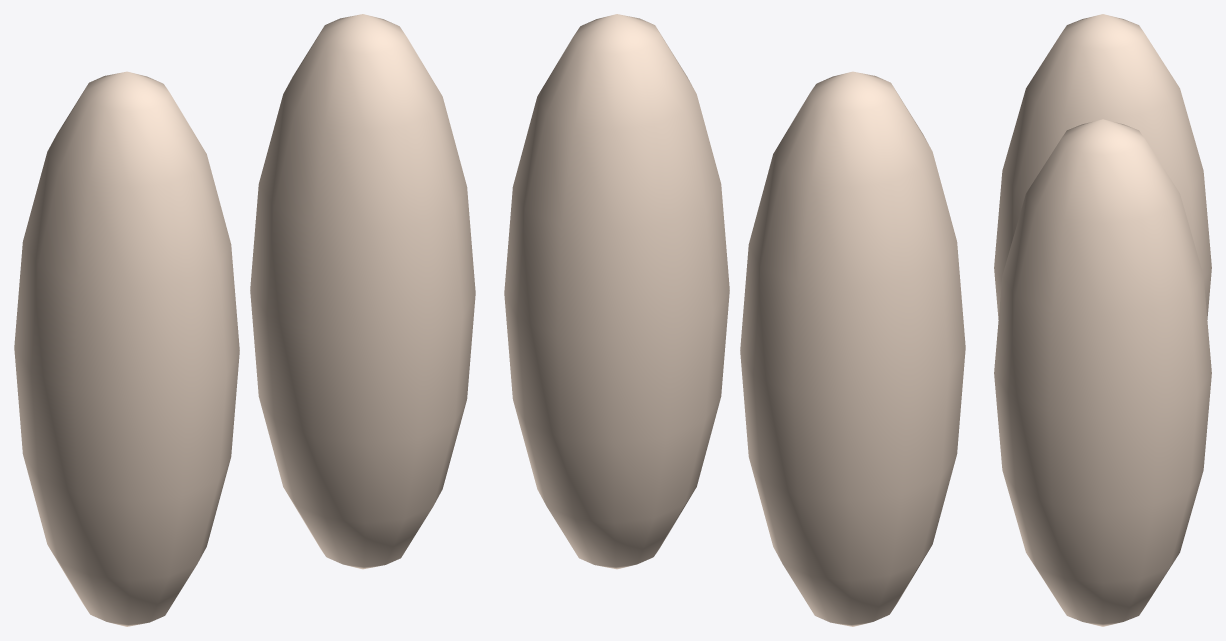
The model's file is legs-chibi-01.glb.
3 views of the same model, side by side, from view 1: azimuth 30°, elevation 25°; view 2: azimuth 150°, elevation 25°; view 3: azimuth 270°, elevation 25° (orthographic). The views are drawn at different scales.
Visible parts, largest first — view 1: part_0, part_1; view 2: part_0, part_1; view 3: part_1, part_0.
Part boxes in pixels (x1=…): part_0: x1=14, y1=71, x2=239, y2=626; part_1: x1=250, y1=14, x2=475, y2=569; part_0: x1=740, y1=71, x2=965, y2=626; part_1: x1=504, y1=14, x2=729, y2=569; part_1: x1=994, y1=119, x2=1211, y2=626; part_0: x1=994, y1=14, x2=1211, y2=319.
Bounding box in the file's own units: 0.58 × 0.72 × 0.28.
